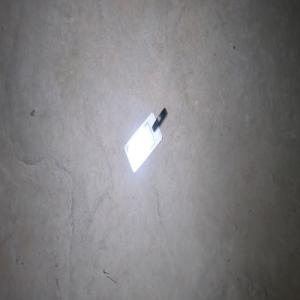LuggageTag: (123, 106, 167, 174)
